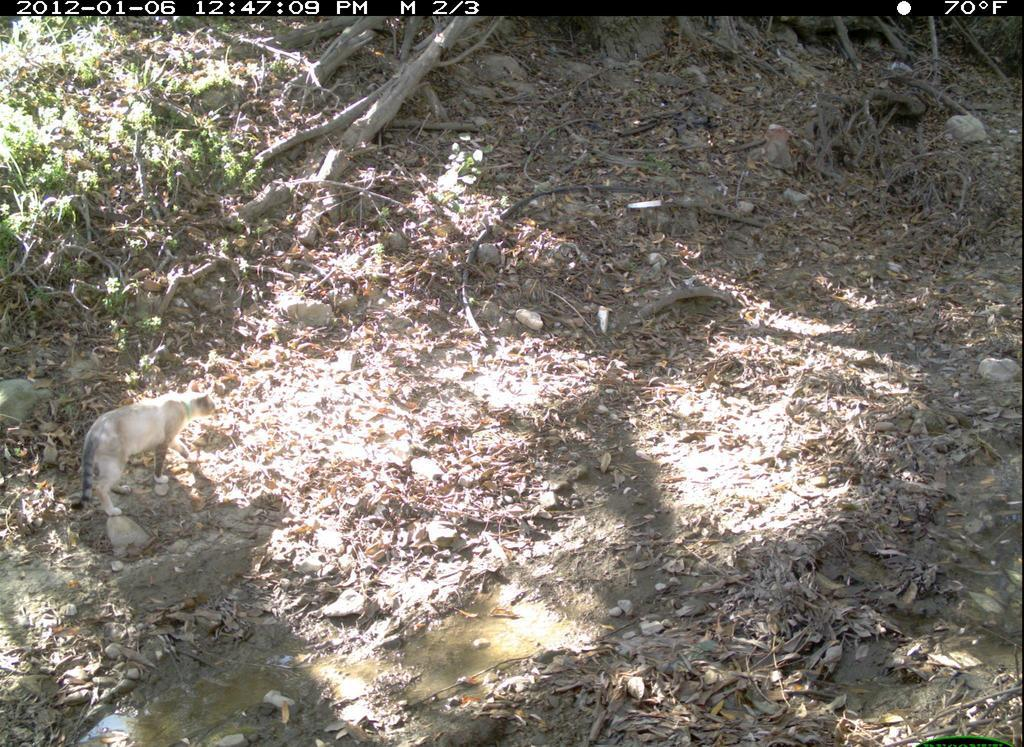cat: (63, 383, 225, 525)
